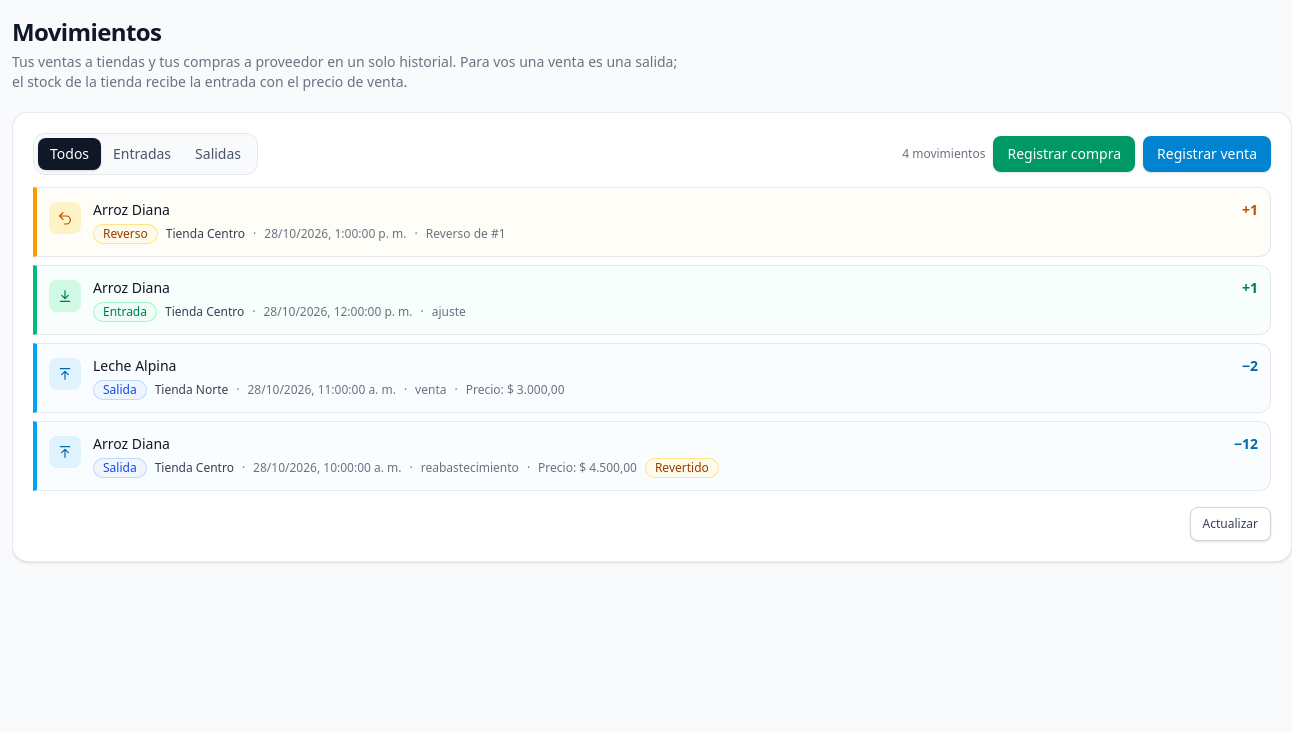
Test: DistributorMovementsPage · historial del distribuidor (S19) › filtra entradas y salidas por la dirección del distribuidor
This screenshot has width=1292, height=732.
Click the button "Entradas" at (142, 154), box [101,138,183,170]
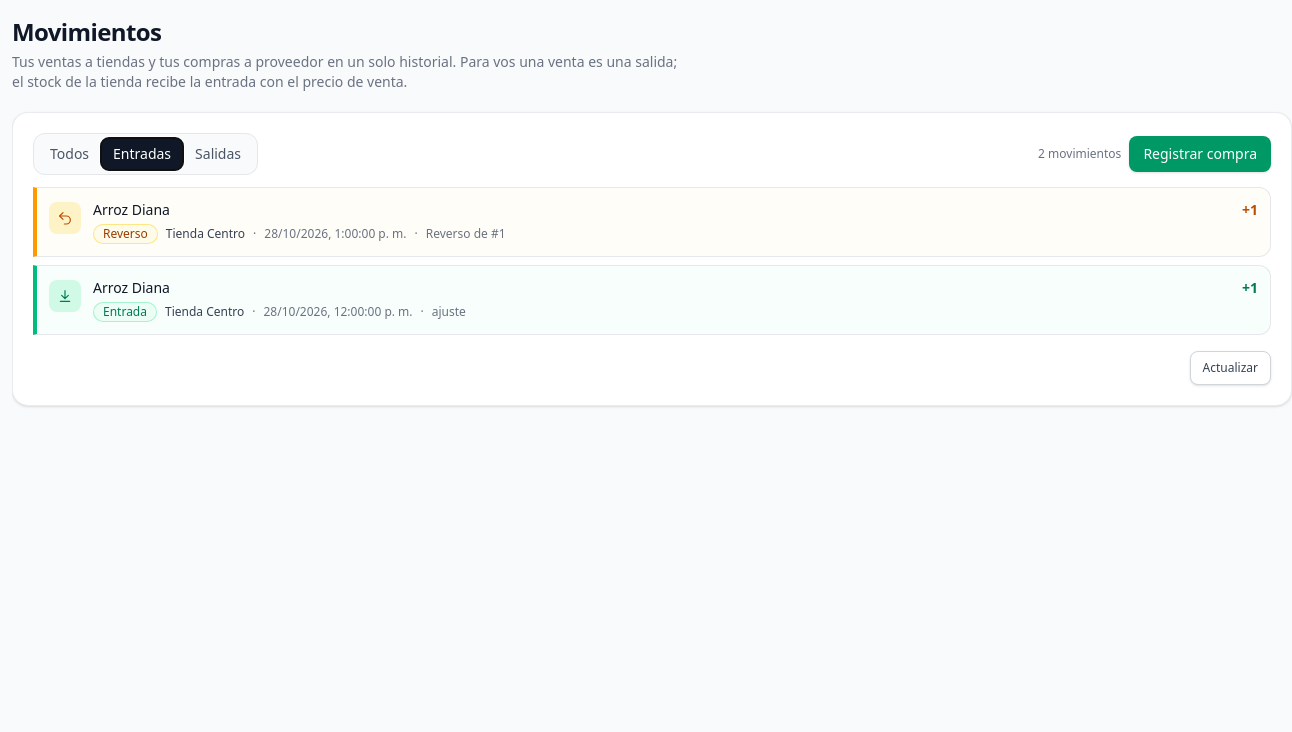
Check: the number of list items is 2, box [33,187,1271,257]; [33,265,1271,335]
Check: the text "Leche Alpina" is gone
Click the button "Salidas" at (218, 154), box [183,138,253,170]
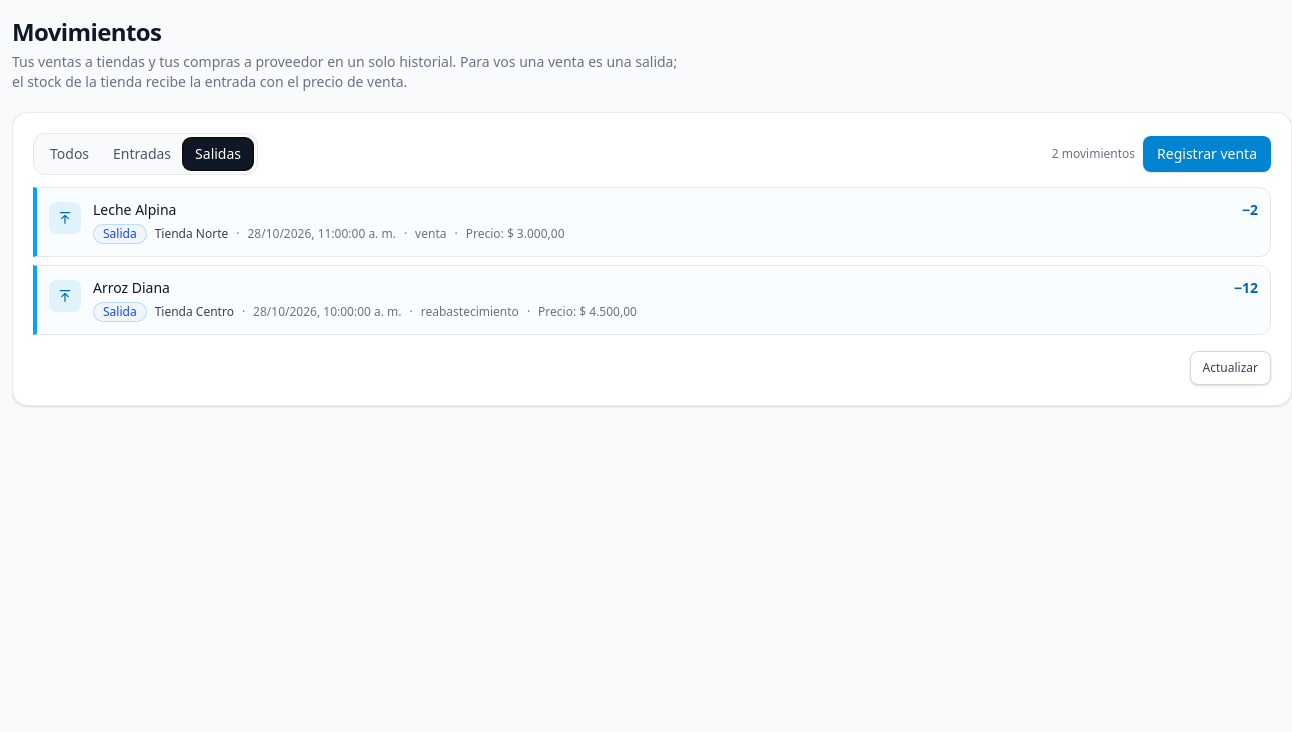
Check: the number of list items is 2, box [33,187,1271,257]; [33,265,1271,335]
Check: the text "Leche Alpina" is shown, box [93,200,176,220]
